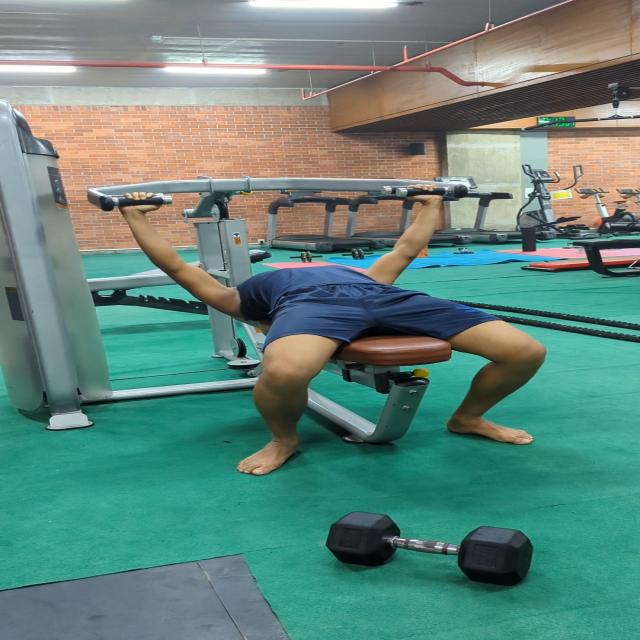Normal_BrenchPress: (81, 171, 624, 472)
